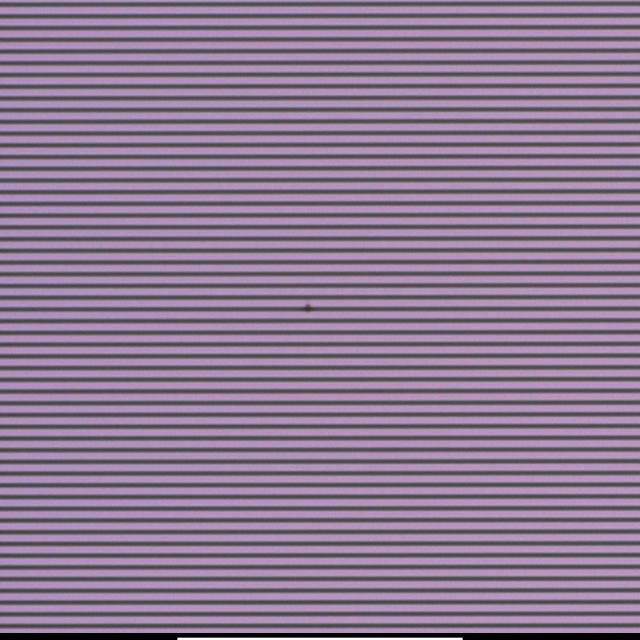03_intrusion: (301, 301, 313, 314)
